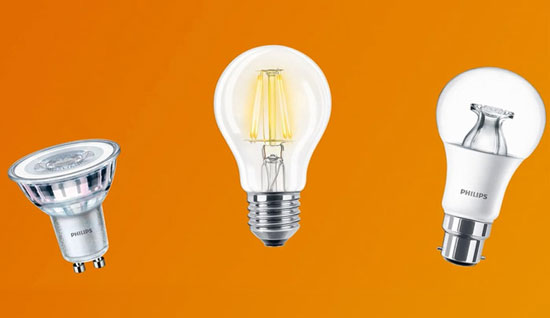Light_bulb: (424, 54, 550, 278), (211, 40, 334, 259), (4, 135, 140, 280)
